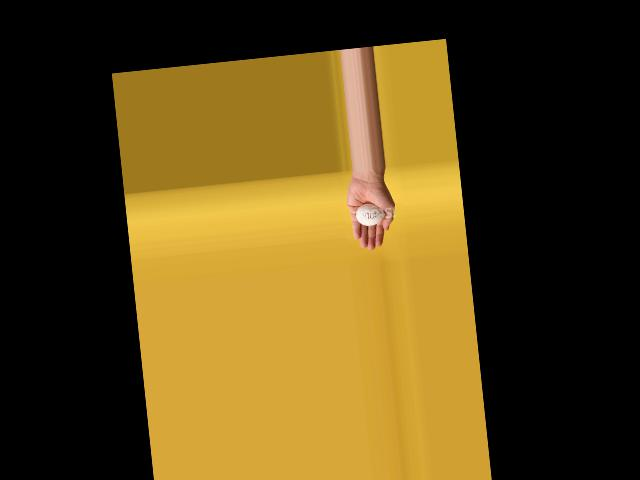egg: (354, 202, 385, 227)
